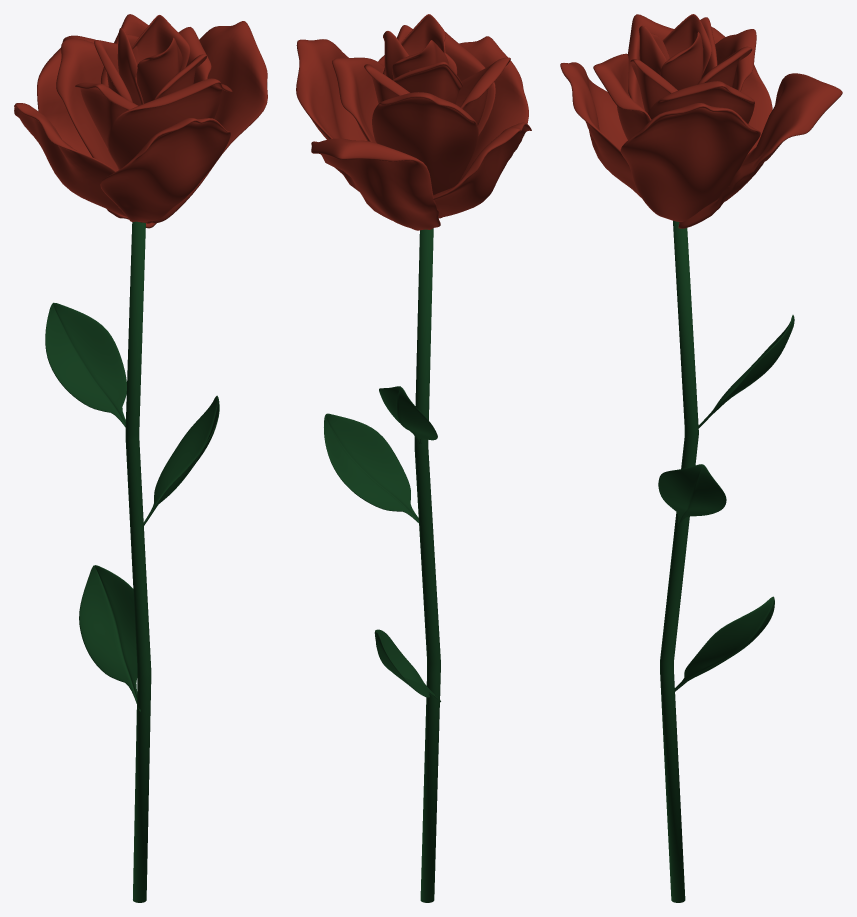
The model's file is 1rose.glb.
3 renders of one model, left to right at view 1: azimuth 30°, elevation 25°; view 2: azimuth 150°, elevation 25°; view 3: azimuth 270°, elevation 25°, orthographic.
Parts seen in each view (by area): view 1: Rose; view 2: Rose; view 3: Rose.
Part boxes in pixels (x1=…): Rose: x1=14, y1=14, x2=267, y2=902; Rose: x1=296, y1=14, x2=531, y2=902; Rose: x1=560, y1=14, x2=842, y2=902.
Bounding box in the file's own units: 0.0551 × 0.2029 × 0.0589.
